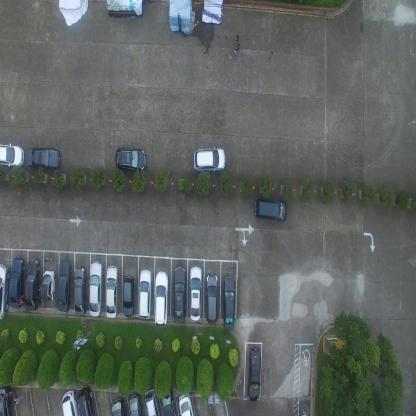car: (10, 258, 28, 309), (192, 146, 226, 173), (153, 269, 169, 326), (25, 259, 42, 312), (254, 196, 288, 222), (116, 146, 147, 173), (28, 146, 60, 172), (89, 259, 103, 318), (247, 346, 261, 404), (172, 266, 186, 322), (106, 265, 120, 320), (138, 268, 153, 319), (58, 260, 72, 313), (189, 264, 202, 320), (204, 271, 218, 323), (0, 143, 25, 170), (223, 276, 235, 331), (74, 266, 87, 316), (122, 276, 136, 318), (77, 386, 95, 416), (0, 263, 9, 320), (42, 269, 57, 303), (62, 389, 80, 415), (160, 387, 176, 415), (144, 388, 160, 415), (178, 390, 194, 415), (128, 392, 143, 416), (0, 384, 11, 416), (110, 395, 127, 415)
